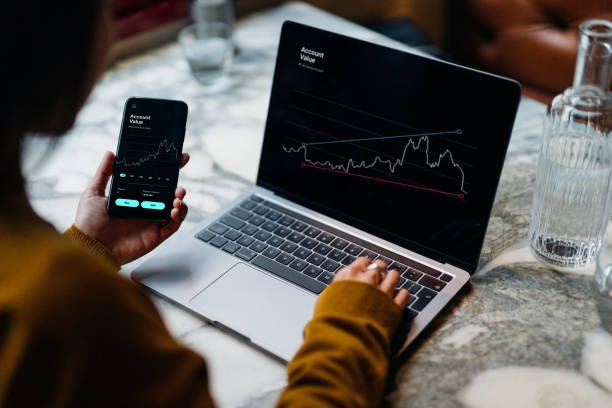keyboard: (193, 194, 453, 326)
laptop: (141, 17, 524, 361)
phone: (105, 94, 189, 222)
screen: (257, 21, 517, 259)
